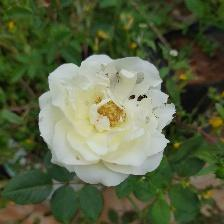rose: (38, 54, 178, 191)
